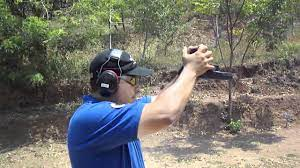gun: (178, 45, 240, 84)
